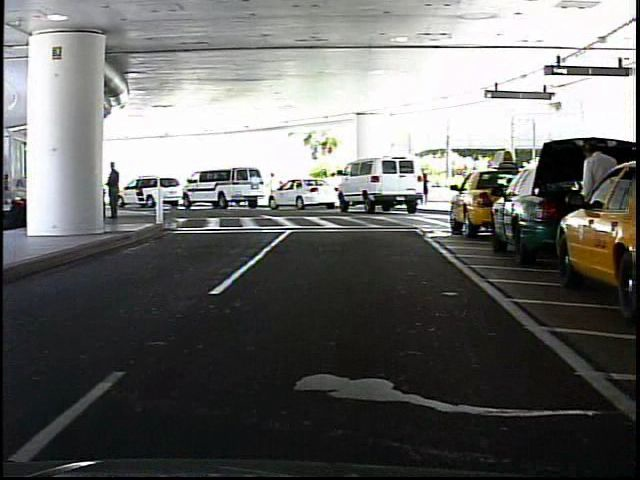person: (573, 129, 618, 276), (109, 158, 126, 224), (265, 170, 283, 205), (425, 170, 431, 206)
